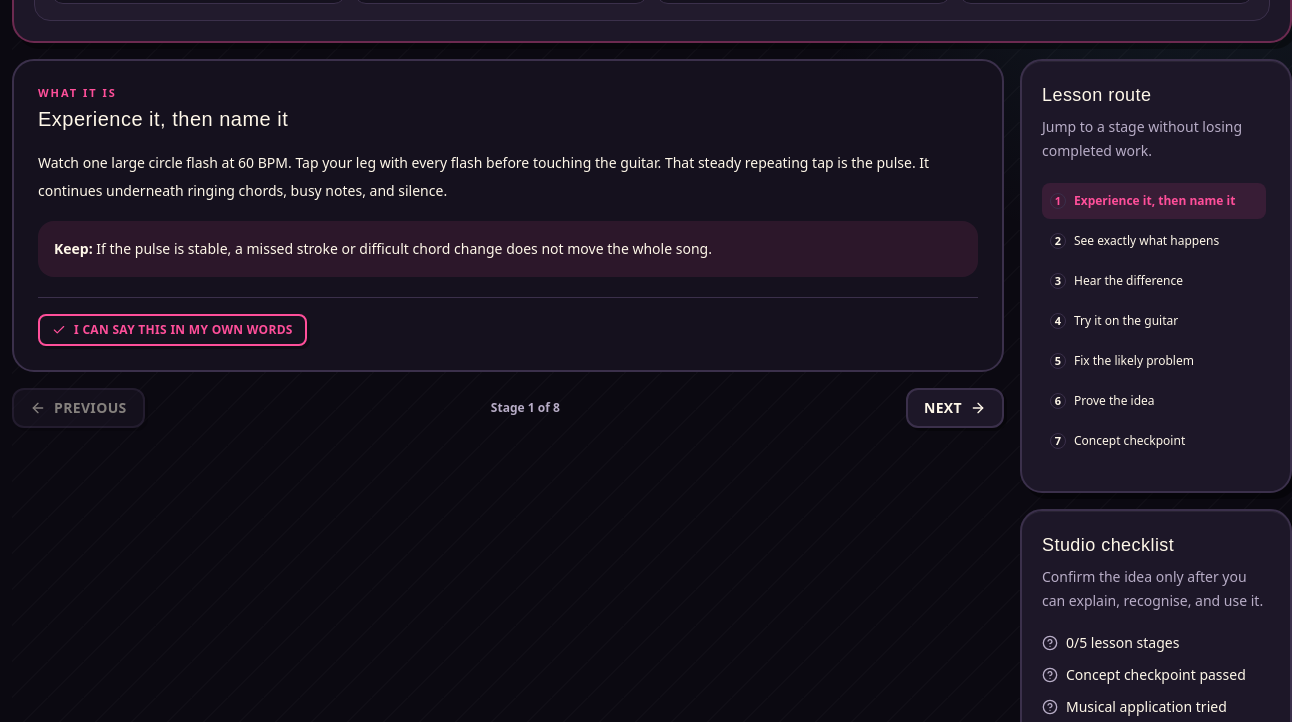
it: LessonRenderer authored flow › shows plain language, glossary help, and gated mastery
(page scrolled)
What coordinates should you click on to do the following:
click the button "I can say this in my own words"
I would click on:
 (172, 330)
Its box is [38,314,307,346].
(page scrolled)
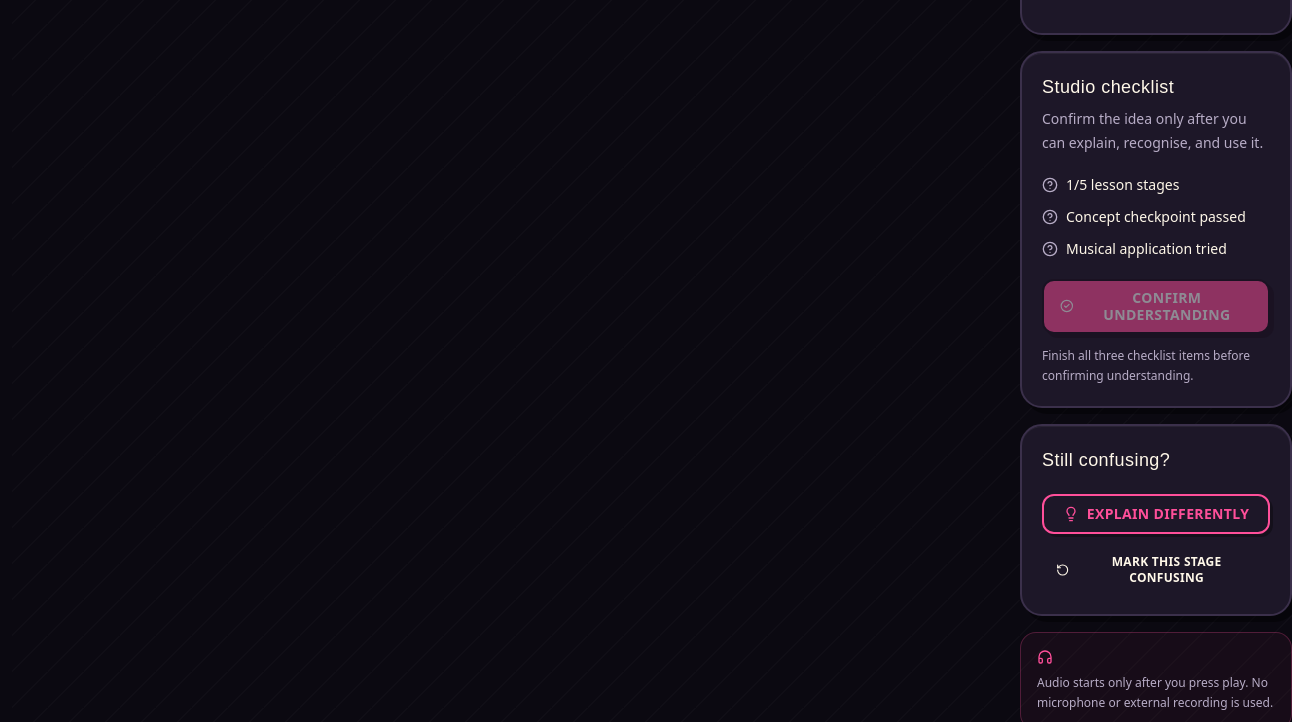
What coordinates should you click on to do the following:
click the button "Explain differently"
I would click on:
 (1156, 514)
Its box is [1042,494,1270,534].
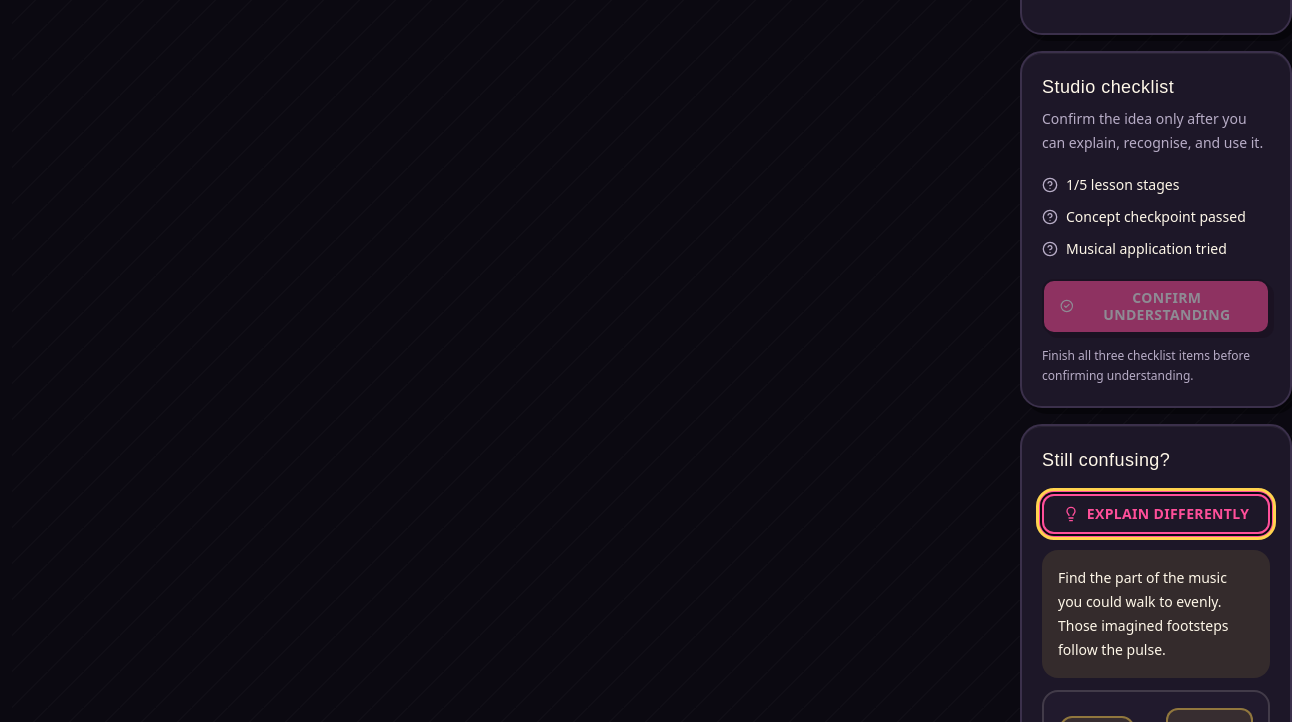
Expected: the text "Find the part of the music you could walk to evenly. Those imagined footsteps follow the pulse." is shown, [1058,568,1228,658]
